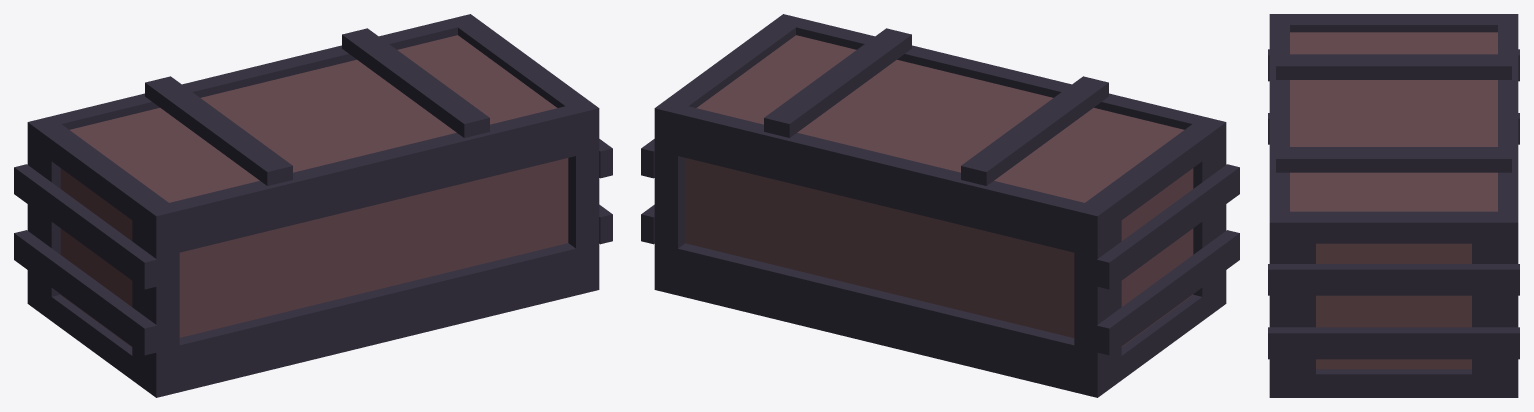
3 views of the same model, side by side, from view 1: azimuth 30°, elevation 25°; view 2: azimuth 150°, elevation 25°; view 3: azimuth 270°, elevation 25° (orthographic). The views are drawn at different scales.
Parts seen in each view (by area): view 1: box_01; view 2: box_01; view 3: box_01.
Part boxes in pixels (left/top/right/bottom): box_01: left=14, top=14, right=612, bottom=397; box_01: left=641, top=14, right=1239, bottom=397; box_01: left=1268, top=14, right=1519, bottom=397.
Size of the model in its own units: 134 by 53.38 by 64.51.
